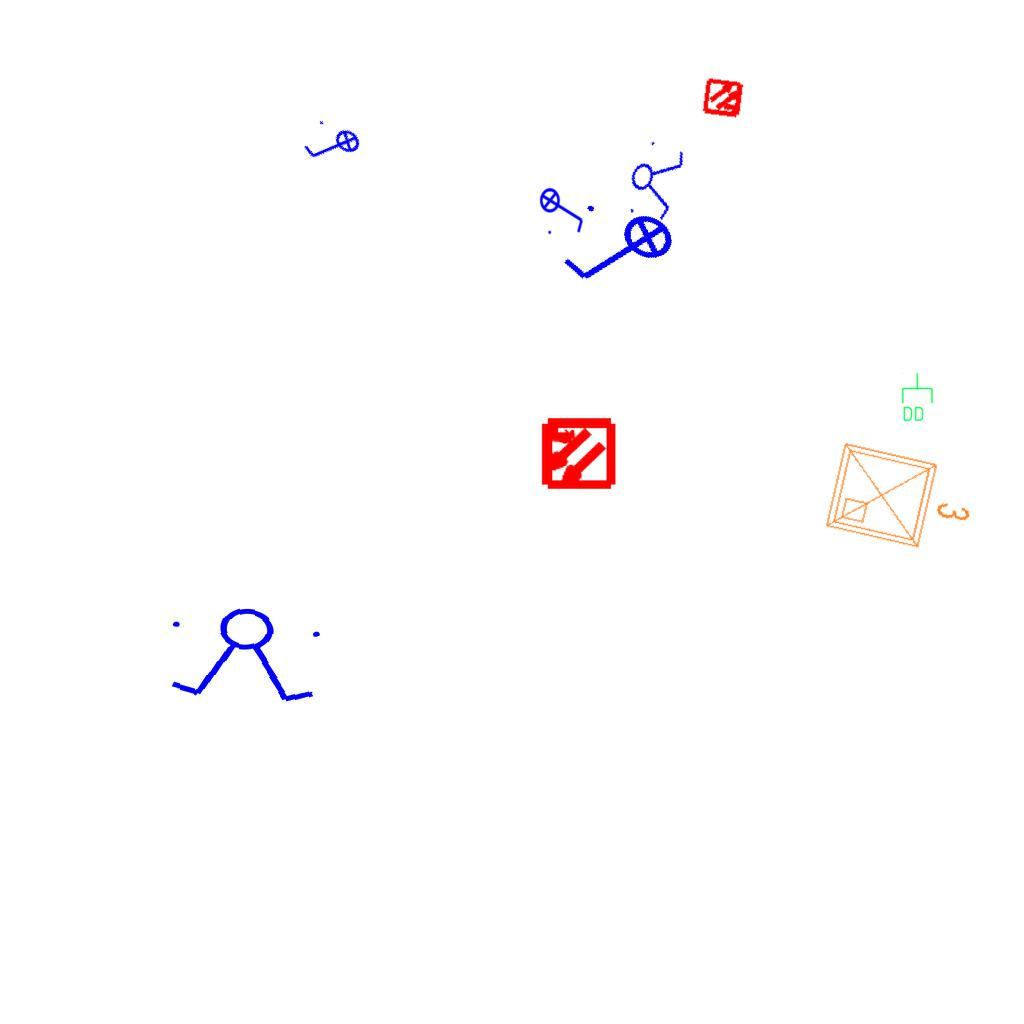Ausschalter_beleuchtet: (549, 185, 693, 321), (296, 111, 370, 183), (539, 181, 587, 237)
Datenanschluss_zweifach: (900, 372, 934, 423)
Einbaudownlights_LED_Konferenzraeume: (817, 430, 987, 566)
OT_Multisensormelder_(Kombination_RMO_WMD): (520, 397, 633, 510), (692, 66, 756, 130)
Serienschalter: (158, 601, 334, 709), (619, 132, 691, 228)
